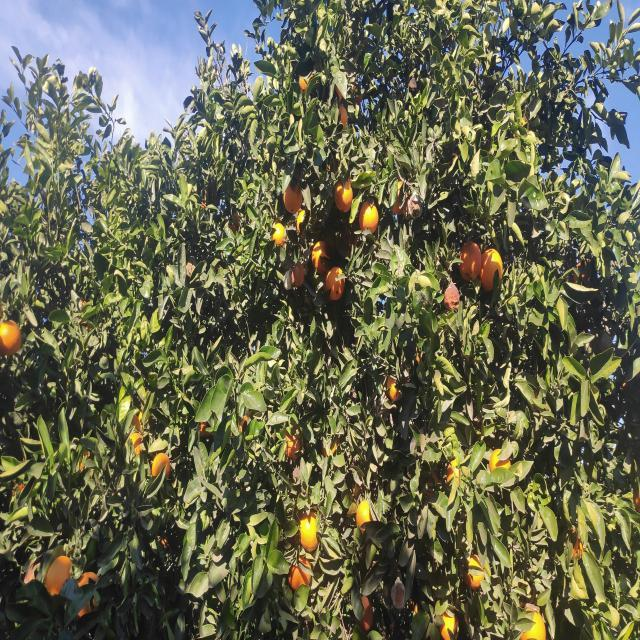Jeruk Sudah Matang: (46, 556, 72, 598), (480, 246, 503, 292), (76, 572, 98, 616), (459, 242, 482, 280), (520, 607, 546, 640), (288, 558, 312, 592), (0, 318, 22, 354), (300, 511, 319, 552), (566, 527, 586, 562), (464, 554, 484, 588), (355, 596, 373, 632), (326, 266, 344, 301), (359, 202, 378, 235), (312, 240, 331, 273), (390, 181, 408, 215), (489, 448, 512, 474), (284, 426, 302, 458), (283, 183, 302, 213), (152, 452, 172, 480), (335, 181, 353, 212), (356, 501, 373, 532), (440, 612, 458, 640), (573, 261, 591, 287), (447, 459, 462, 486), (322, 437, 339, 458), (388, 375, 401, 401), (272, 223, 286, 247), (129, 433, 143, 456), (300, 73, 314, 95), (229, 212, 241, 235), (338, 105, 348, 131), (632, 481, 640, 513), (352, 83, 362, 106), (296, 210, 306, 230), (198, 422, 210, 436), (334, 84, 341, 104)
